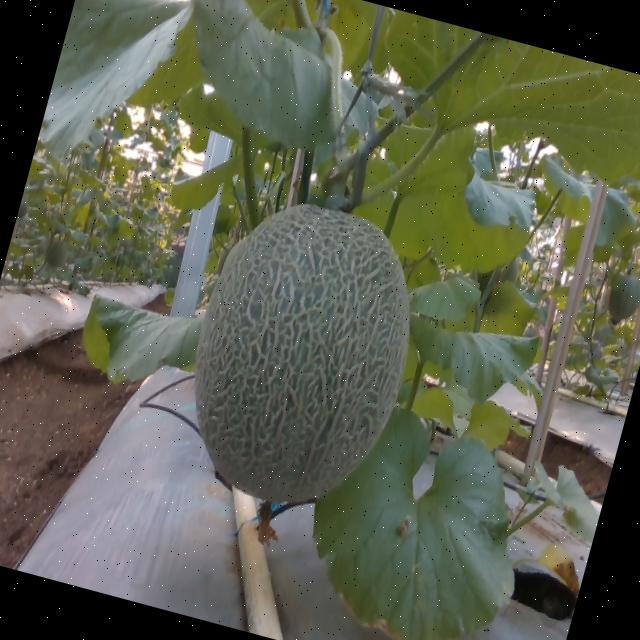melon: (195, 204, 408, 502)
